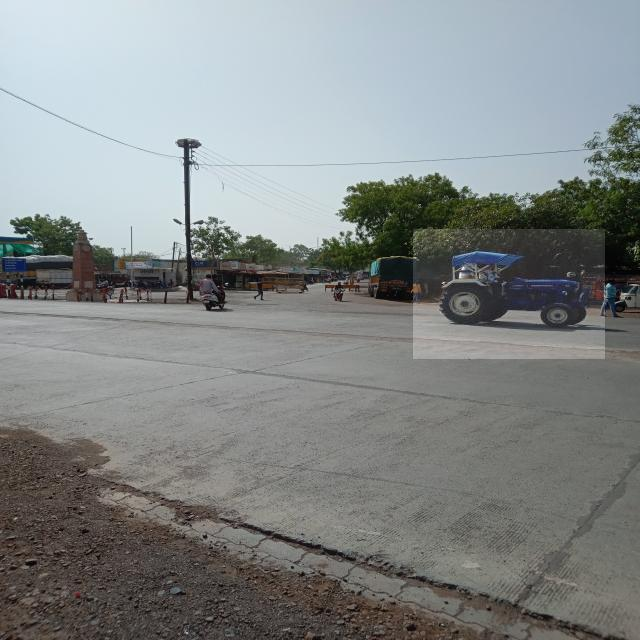Tractot: (414, 230, 606, 360)
